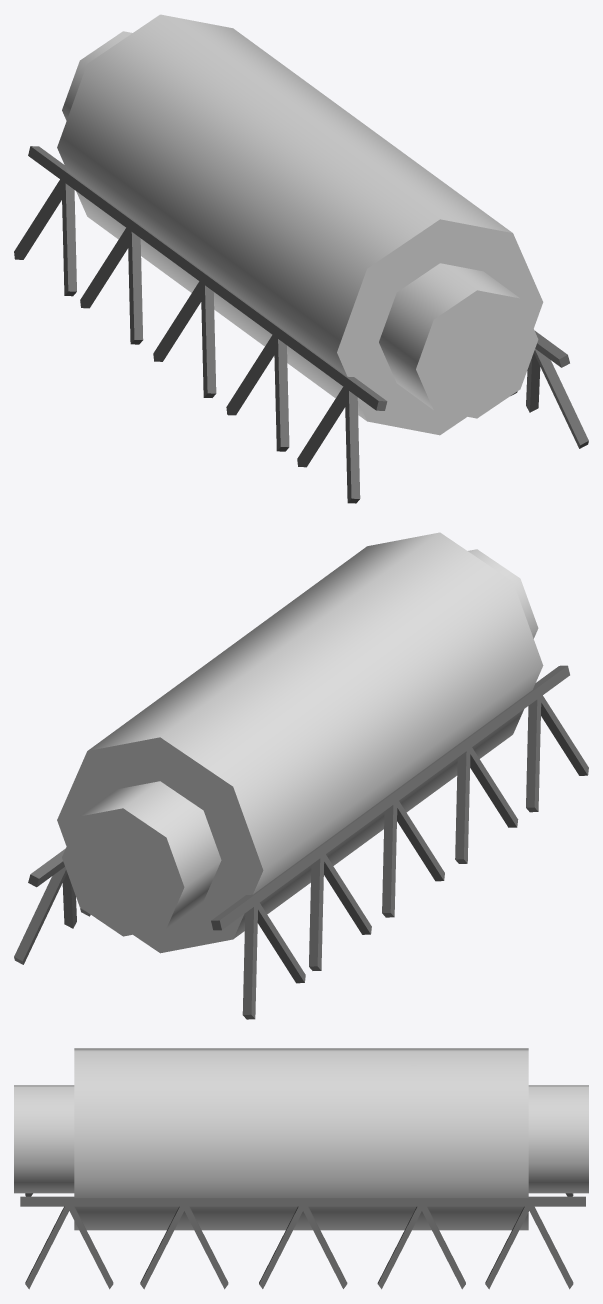
Rendered from TunnelStraight.glb.
3 views of the same model, one above another, from view 1: azimuth 30°, elevation 25°; view 2: azimuth 150°, elevation 25°; view 3: azimuth 270°, elevation 25° (orthographic). The views are drawn at different scales.
Parts seen in each view (by area): view 1: TunnelStraight, TunnelStraight1; view 2: TunnelStraight, TunnelStraight1; view 3: TunnelStraight, TunnelStraight1.
Boxes of the visible parts, <box> form: TunnelStraight: <box>57,14,543,435</box>; TunnelStraight1: <box>14,146,588,503</box>; TunnelStraight: <box>57,532,543,953</box>; TunnelStraight1: <box>14,665,588,1019</box>; TunnelStraight: <box>14,1048,588,1230</box>; TunnelStraight1: <box>20,1193,585,1289</box>.
Size of the model in its own units: 0.7845 by 0.7378 by 2.
1 material, 1 textured.
